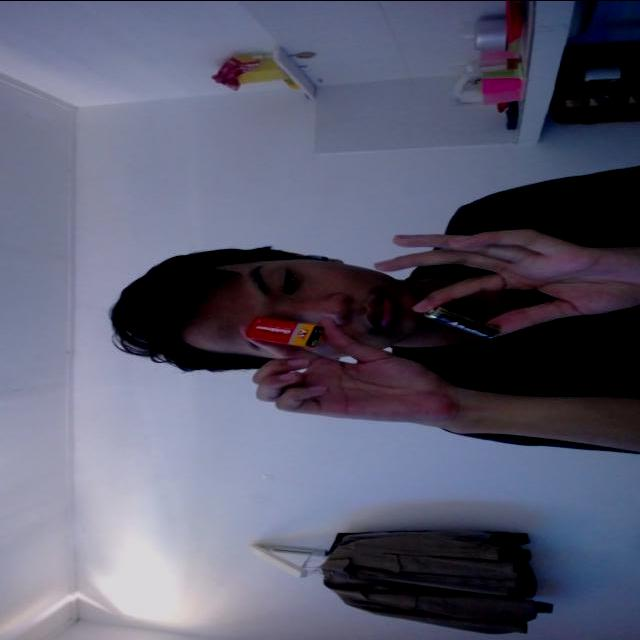9V: (238, 310, 328, 351)
AA: (408, 296, 514, 349)
